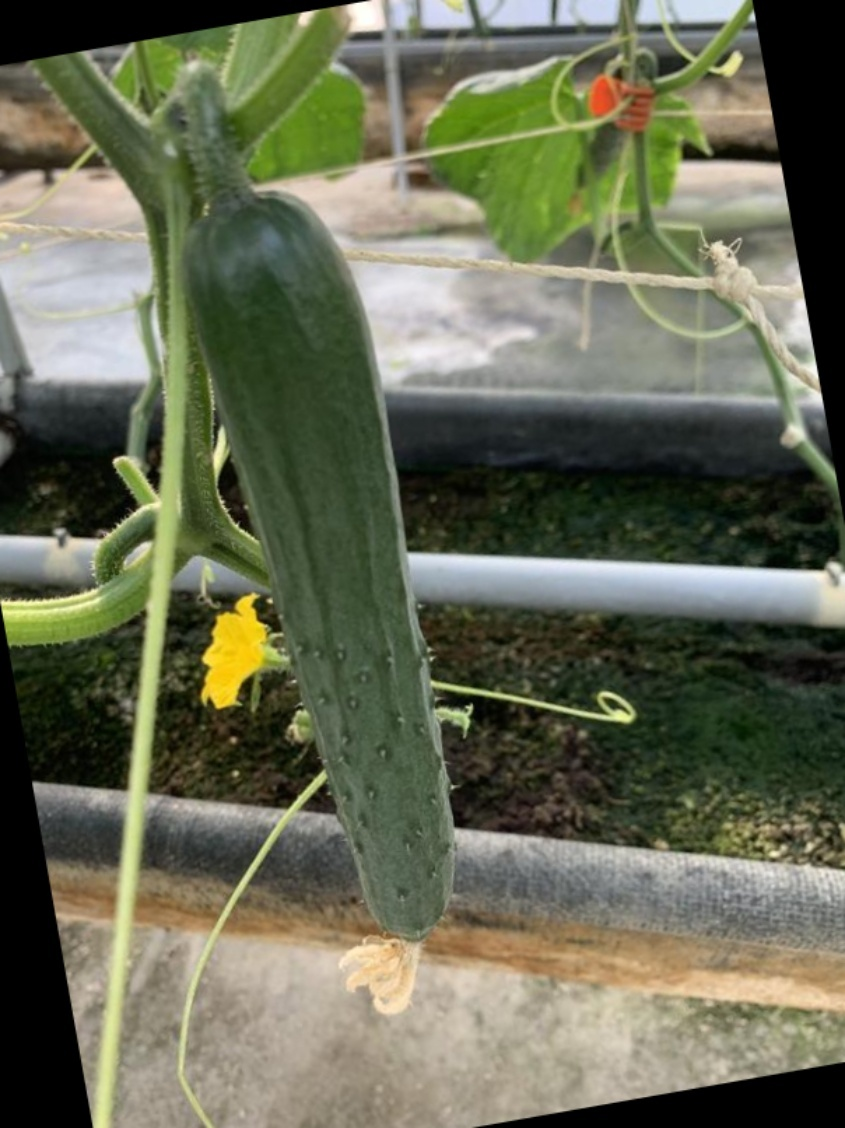mature: (174, 183, 475, 958)
